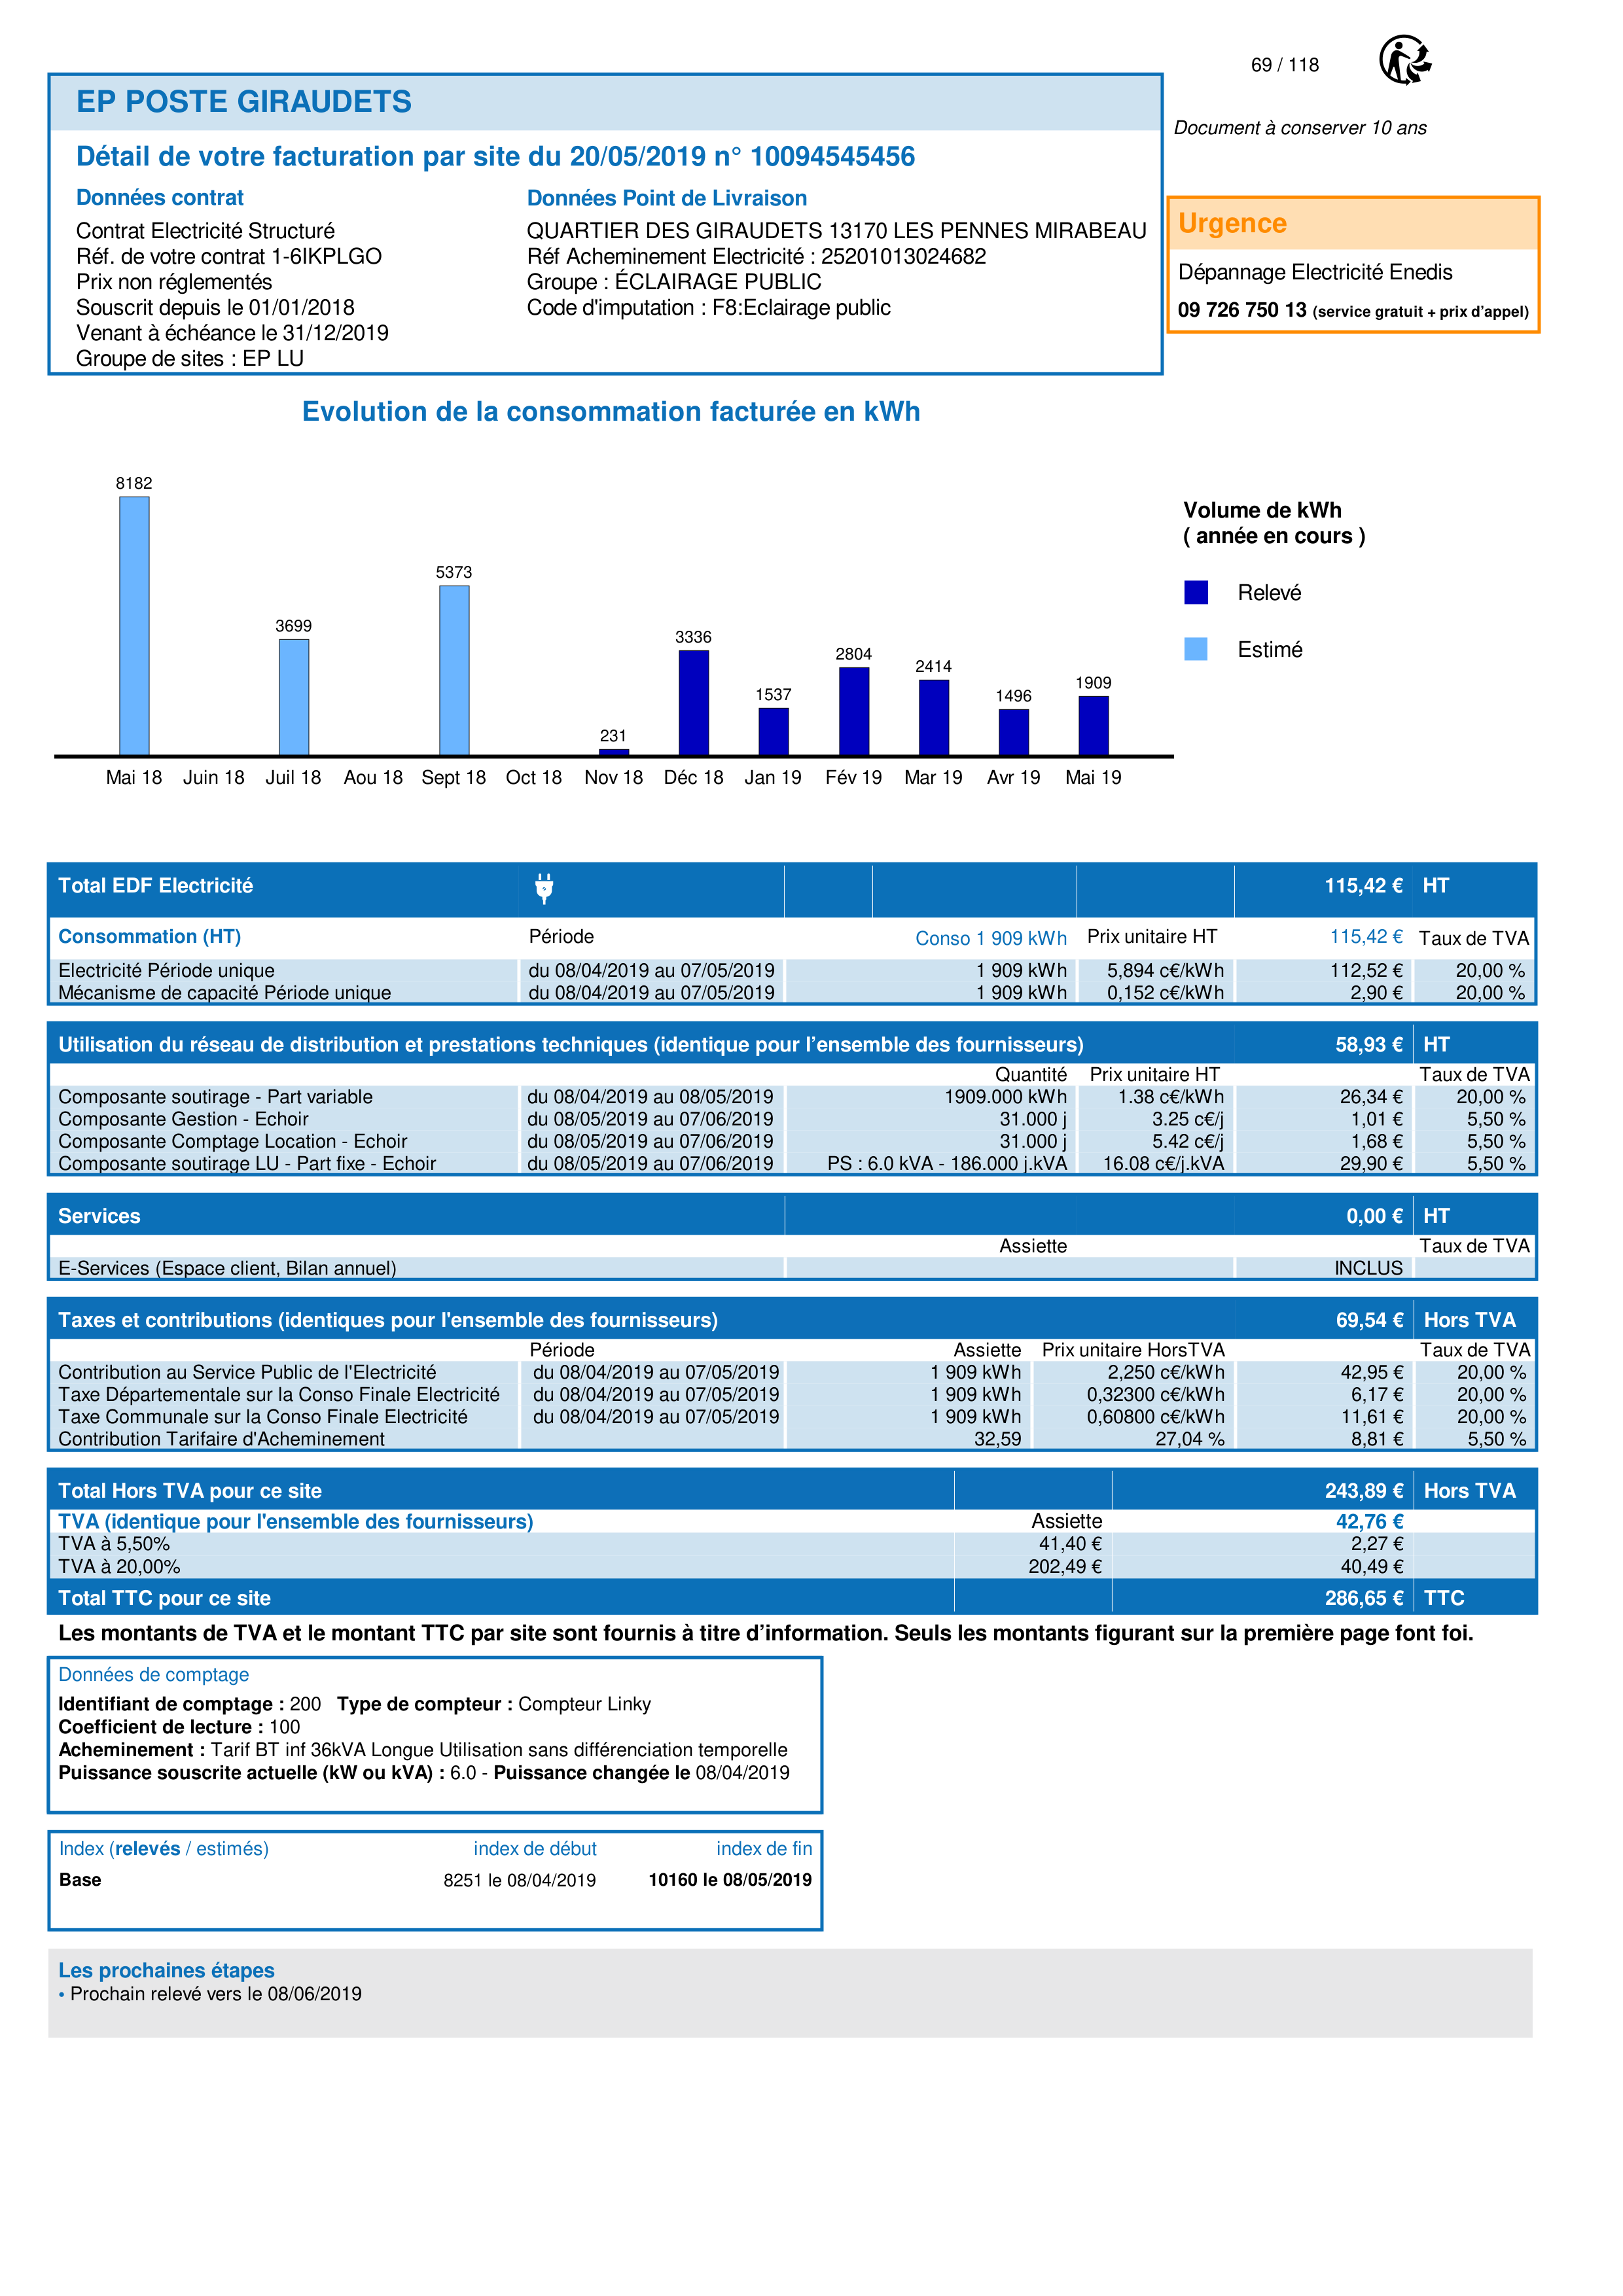area: (49, 1831, 822, 1930)
type_indicator: (47, 1831, 279, 1865)
